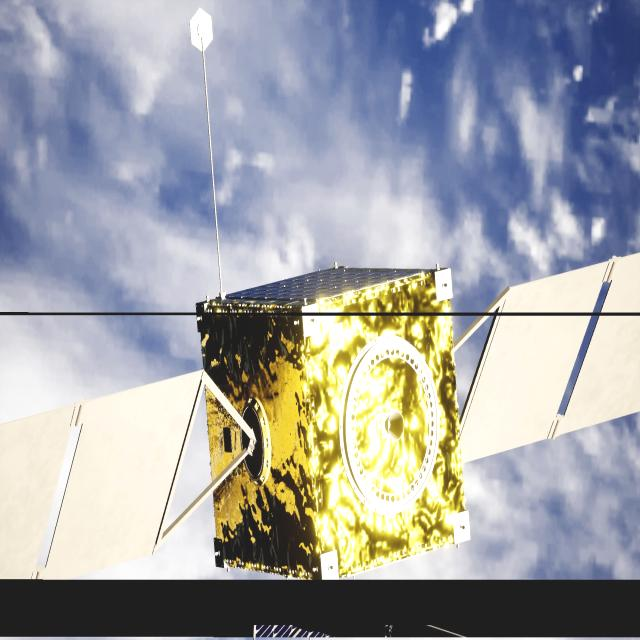satellite: (0, 253, 640, 581)
